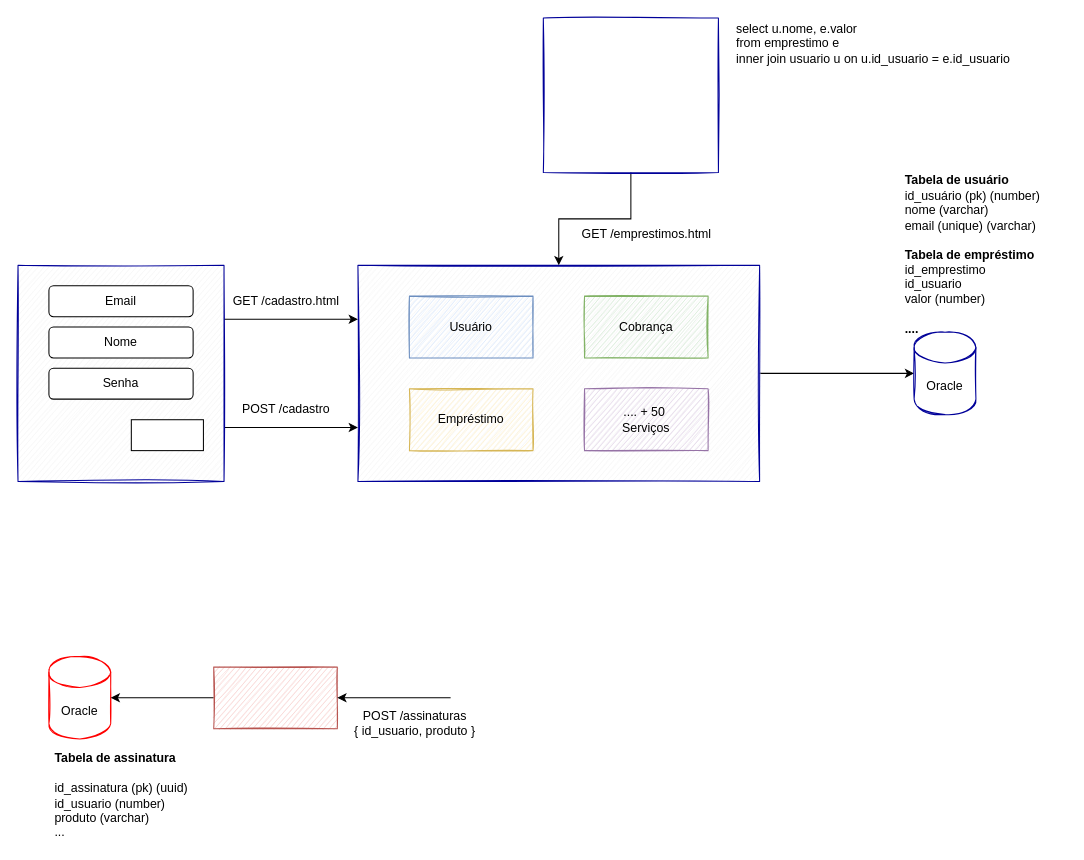
Some shapes in this 1084 by 860 pixel diagram are drawn without their labels. The centre of each missing label's shape, as x and y in pixels:
"Assinatura" goes at [275,697].
"Empréstimos Nome | V alor João | R$ 500,00 Maria | R$ 200,00 Pedro | R$ 650,00" goes at [630,95].
"OK" goes at [166,435].
